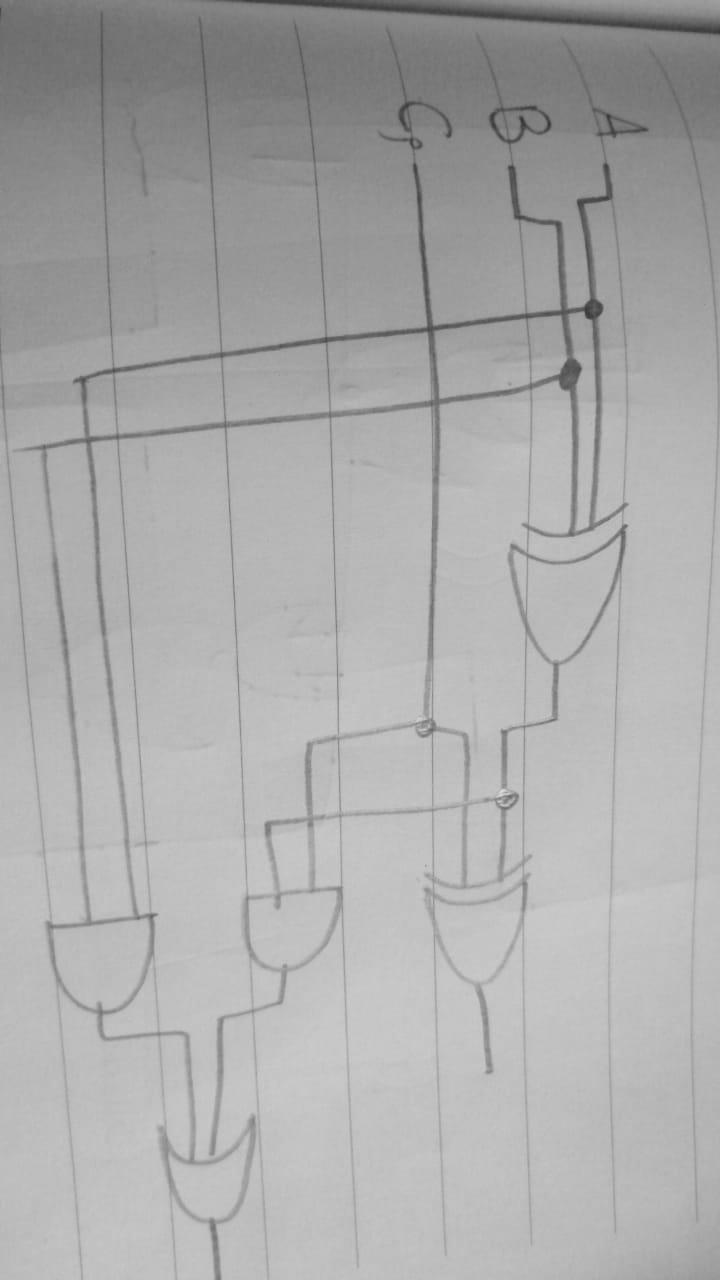AND: (25, 902, 187, 1024), (223, 880, 371, 991)
OR: (145, 1100, 281, 1243)
XOR: (490, 503, 640, 679), (415, 852, 559, 1001)
